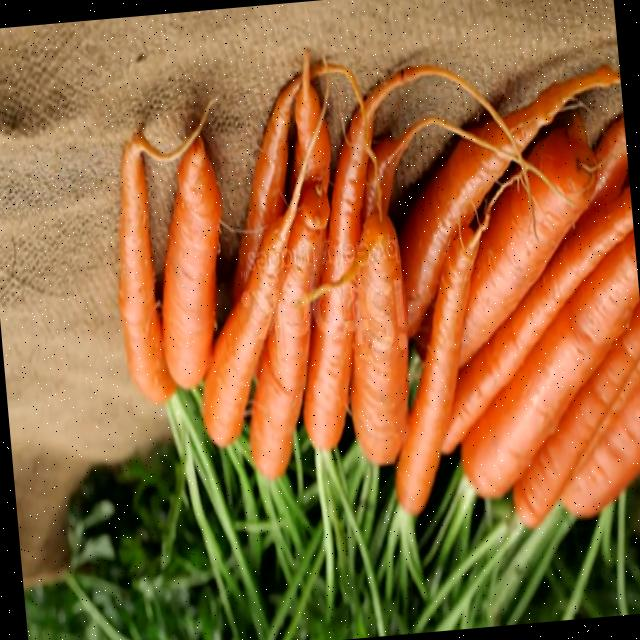carrot: (441, 186, 633, 453), (460, 231, 639, 496), (399, 80, 586, 333), (459, 114, 594, 365), (512, 303, 640, 525), (394, 217, 487, 513), (201, 200, 296, 444), (251, 180, 327, 477), (302, 111, 367, 448), (116, 129, 174, 402), (232, 73, 300, 302), (161, 136, 221, 387), (349, 210, 407, 464), (562, 381, 640, 516)
